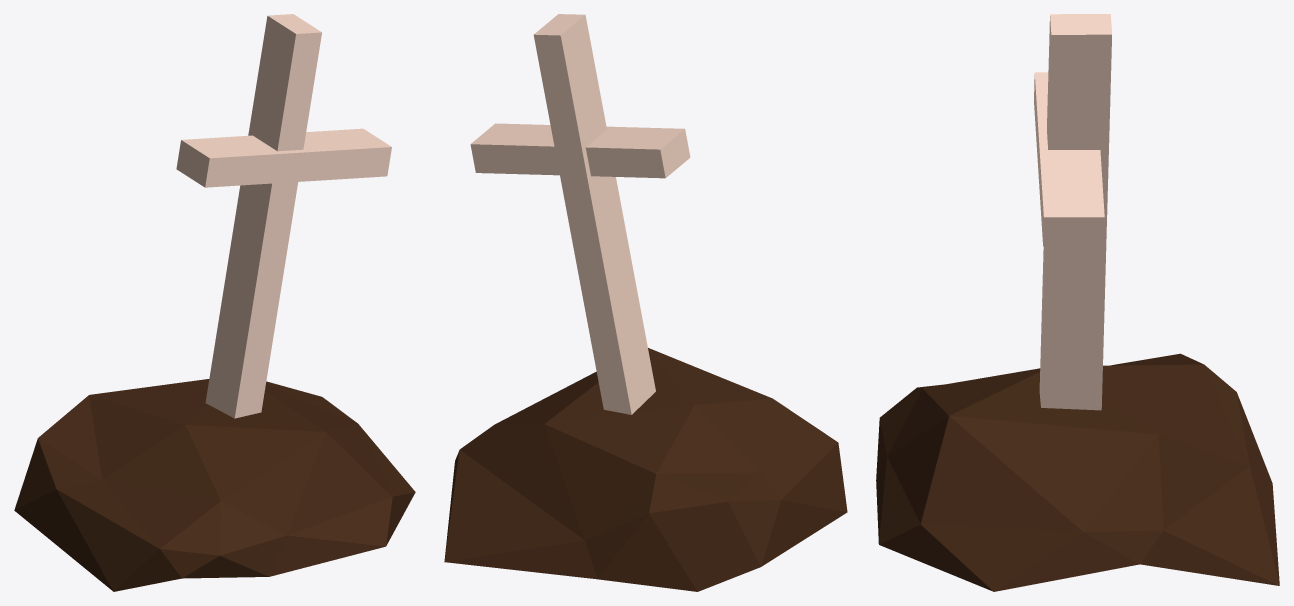
Rendered from cross1.fbx.
3 renders of one model, left to right at view 1: azimuth 30°, elevation 25°; view 2: azimuth 150°, elevation 25°; view 3: azimuth 270°, elevation 25°, orthographic. The views are drawn at different scales.
Visible parts, largest first — view 1: cross; view 2: cross; view 3: cross.
Part boxes in pixels (x1,y1,x2,y2): cross: (14,14,415,591); cross: (444,14,847,591); cross: (876,14,1279,591).
Bounding box in the file's own units: 167 × 239 × 159.
